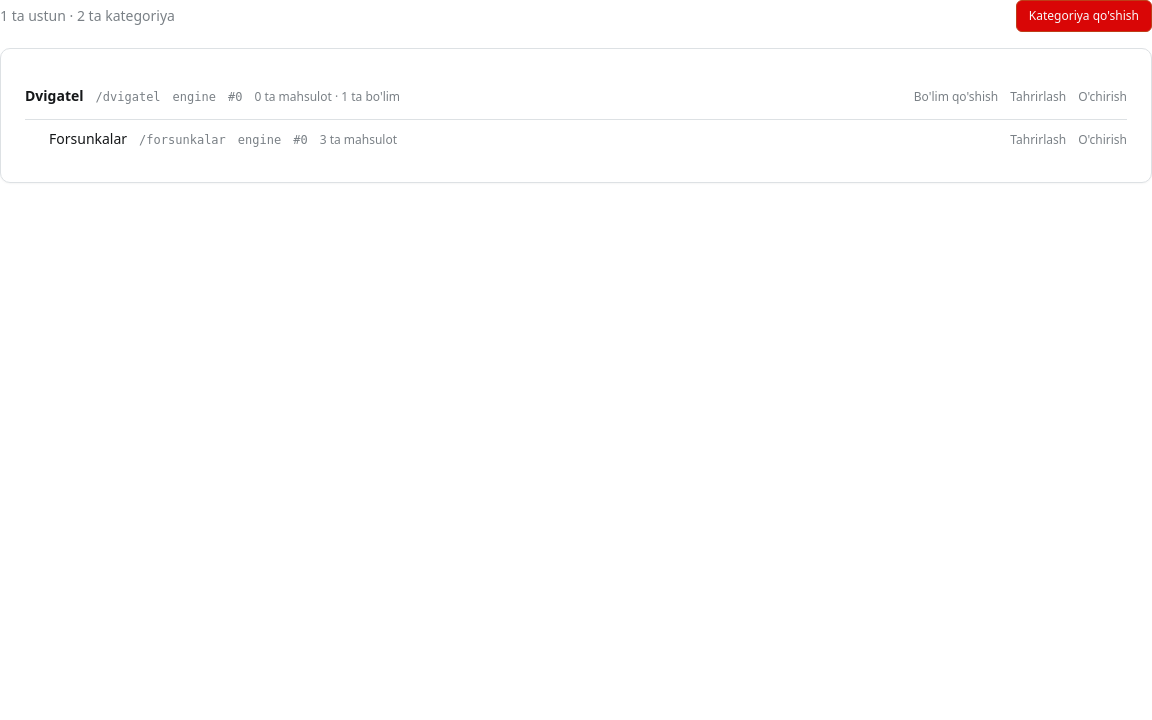
CategoryManager adding a category › fills the slug in from the Uzbek name
Click the button "Kategoriya qo'shish" at coordinates (1084, 16), box [1016,0,1151,32]
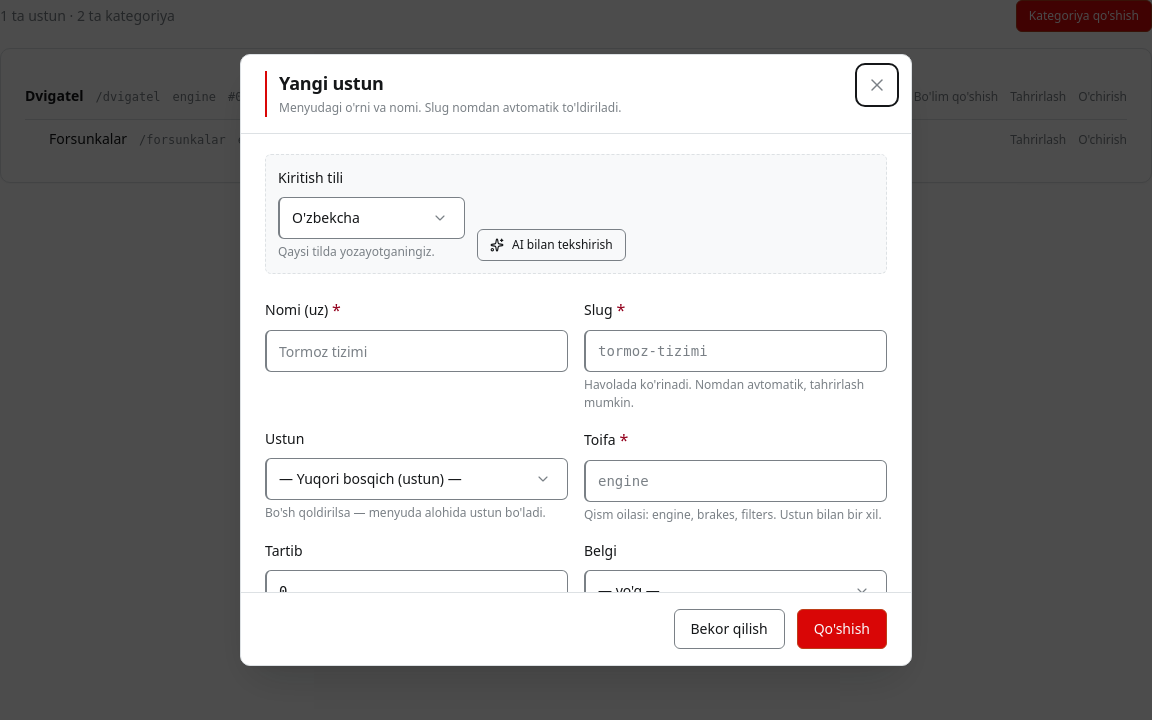
Type "Yoqilg'i filtri" into the field labelled "Nomi (uz)" at coordinates (380, 351), box [279,331,481,371]
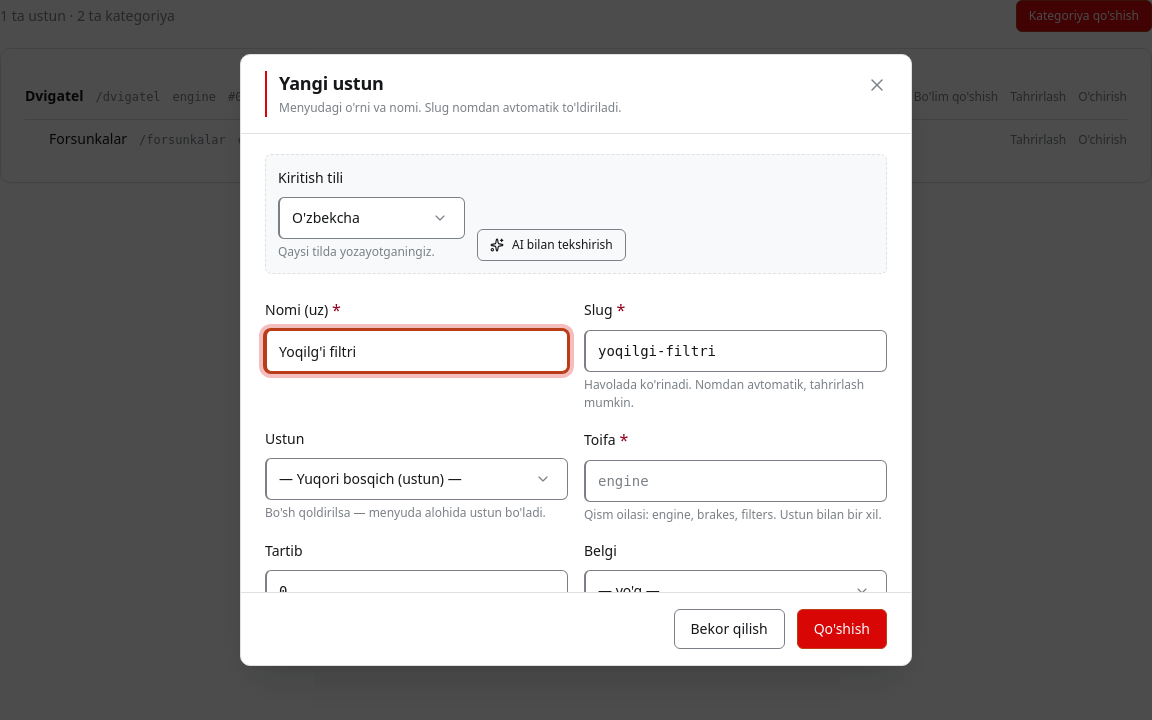
Result: the field labelled "Slug" holds "yoqilgi-filtri" at [598,331,874,371]
